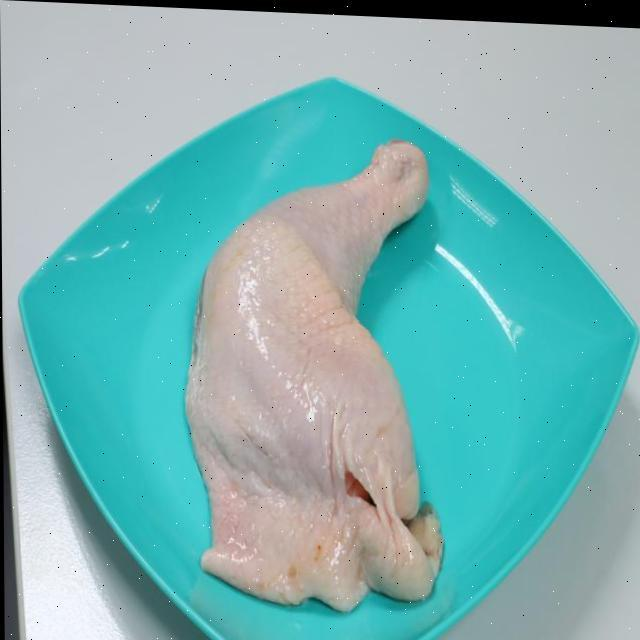quater: (196, 124, 447, 601)
